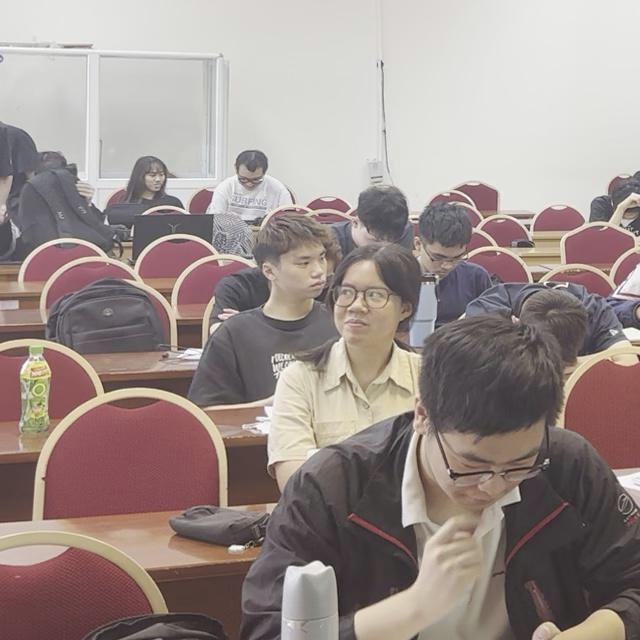Looking away: (423, 401, 545, 508), (332, 257, 400, 347), (274, 237, 328, 299), (419, 237, 465, 279), (140, 162, 164, 192), (235, 167, 266, 190)
